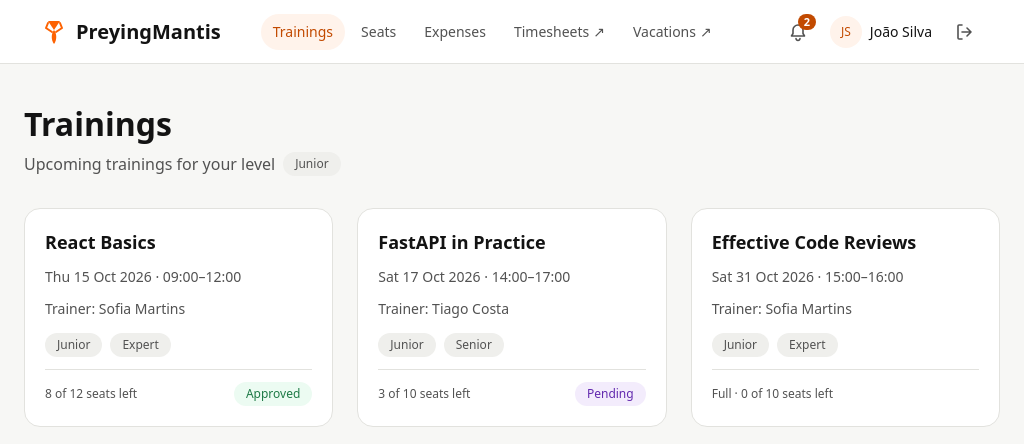
Test: notification bell › closes when clicking outside
This screenshot has width=1024, height=444.
Click the button named "Notifications, 2 unread" at x=798, y=32, box [778, 12, 818, 52]
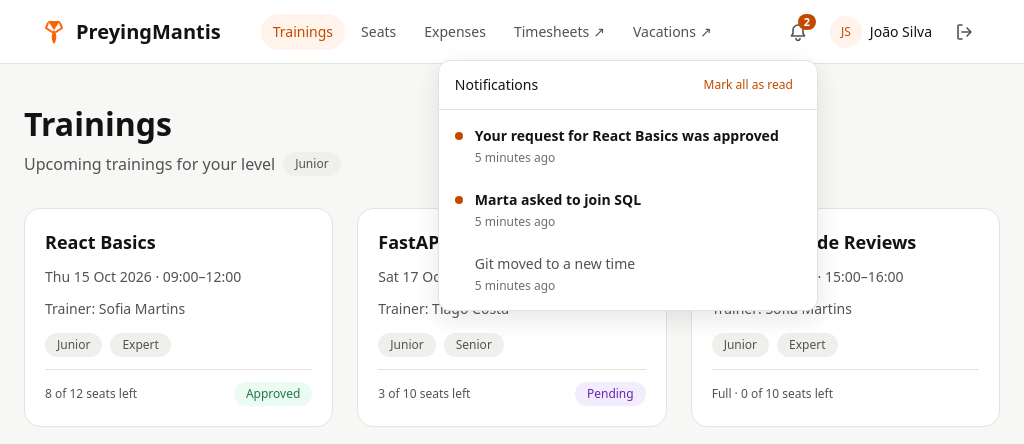
Click the heading "Trainings" at x=98, y=124, box [24, 102, 172, 145]
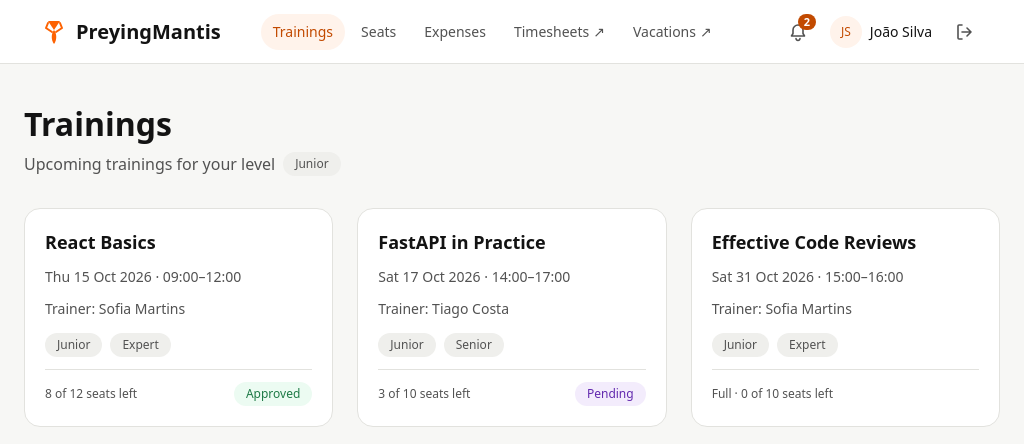
Expected: the heading "Notifications" is gone
